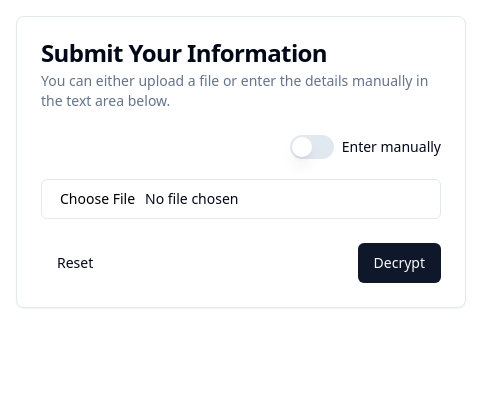
Test: FileUploader › should show an error message if the text field is empty
Click the switch named "Enter manually": click(312, 147) left=290, top=135, right=334, bottom=159
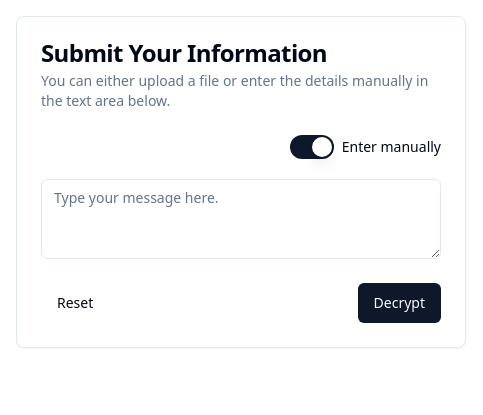
Click the button "Decrypt": click(399, 303) left=358, top=283, right=441, bottom=323
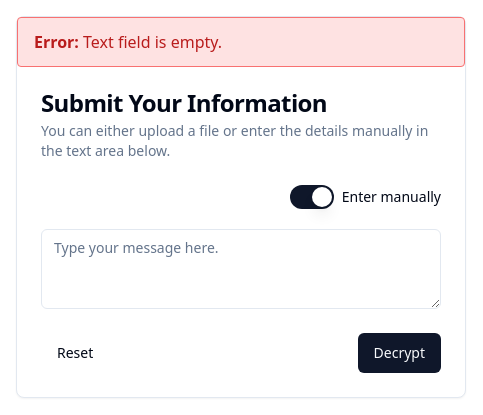
Result: the text "Text field is empty." is shown at left=83, top=31, right=222, bottom=53
